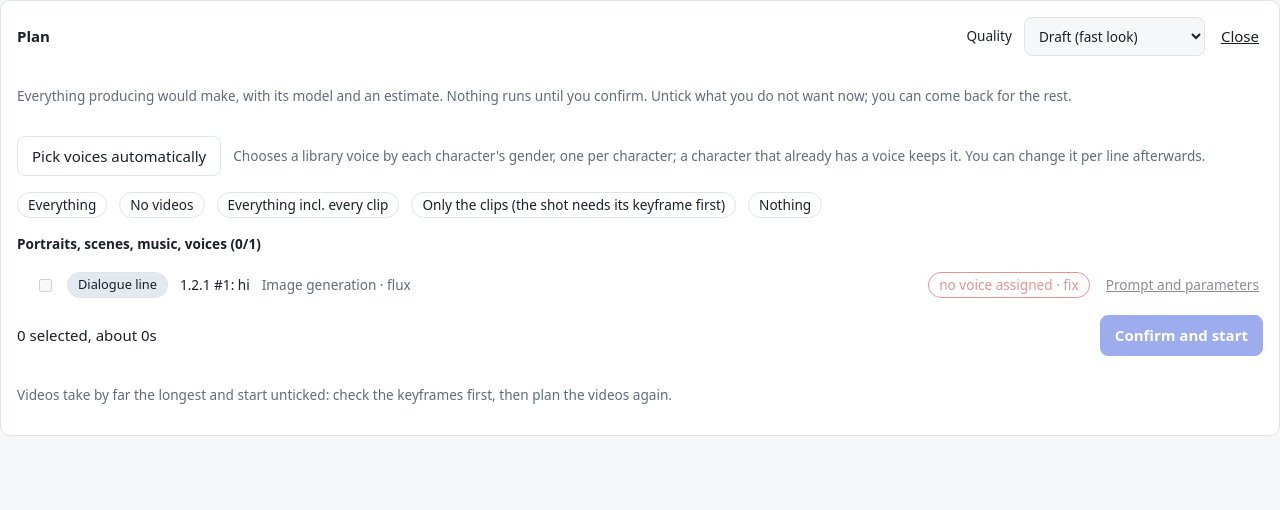
Test case: the production plan › offers to pick voices for lines without one and says who got which and who could not
Step 1. Click the button "Pick voices automatically" → [119, 156], box [17,136,221,176]
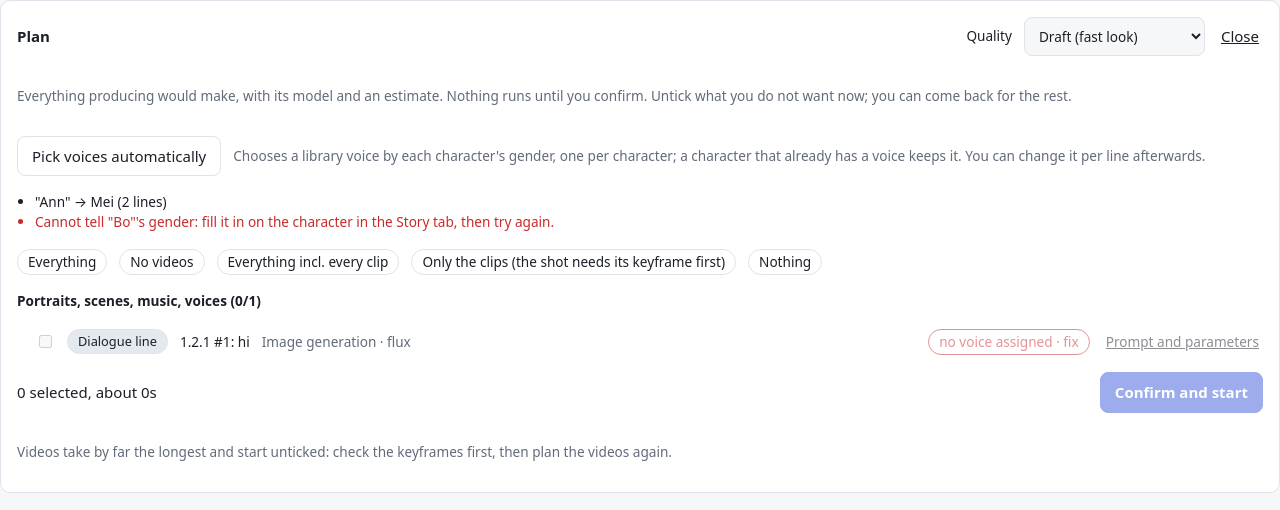
Expected: the list item "\"Ann\" → Mei (2 lines)" is shown, [35,192,167,211]
Expected: the list item "Cannot tell \"Bo\"'s gender" is shown, [35,212,554,232]
